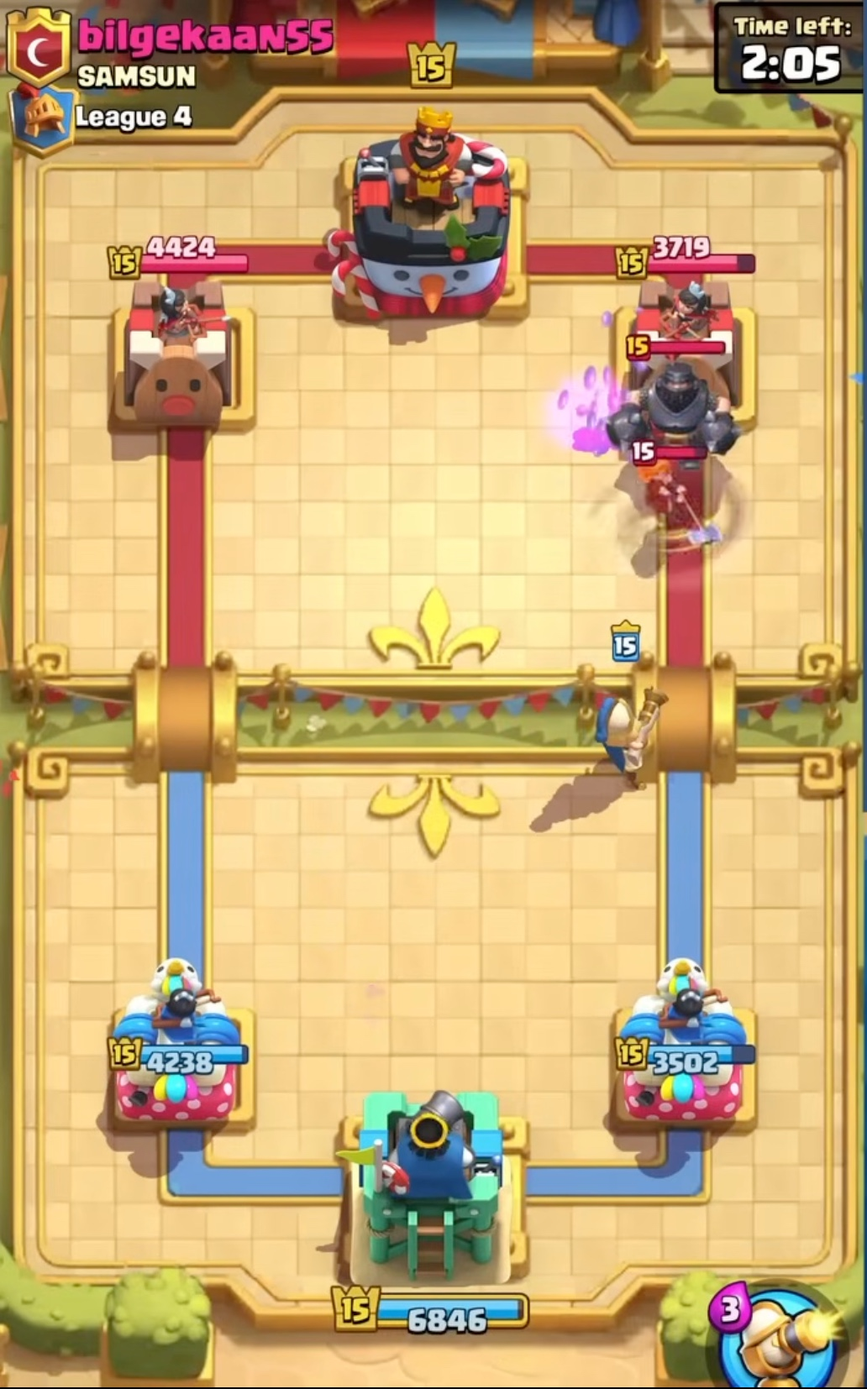hero_musketeer: (573, 614, 682, 806)
